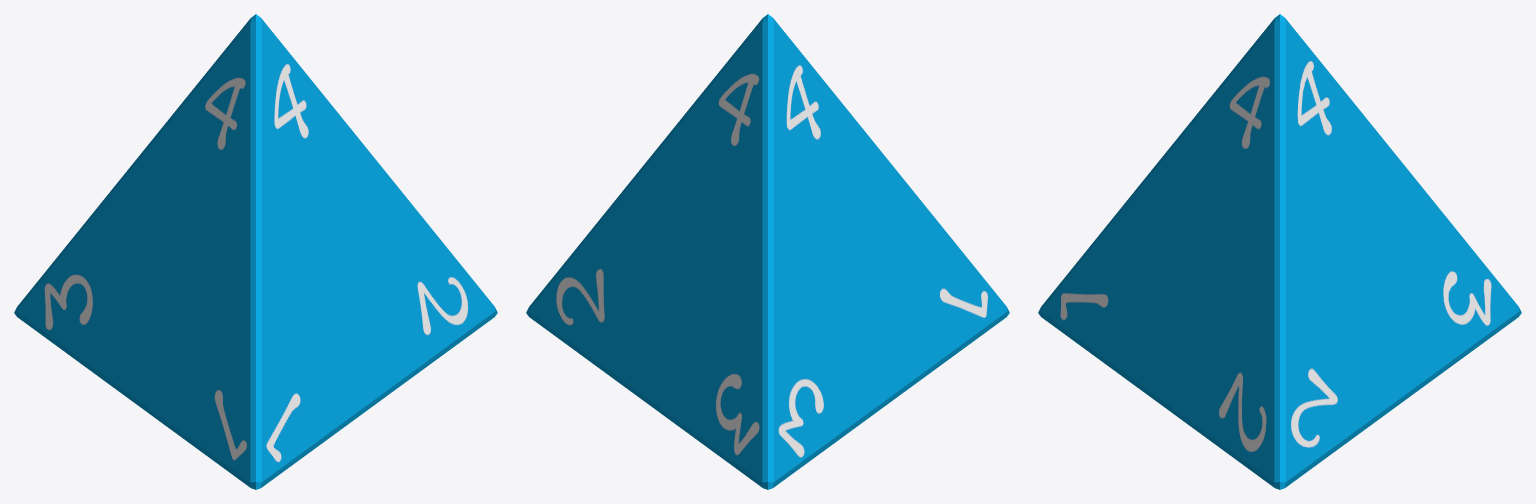
3 renders of one model, left to right at view 1: azimuth 30°, elevation 25°; view 2: azimuth 150°, elevation 25°; view 3: azimuth 270°, elevation 25°, orthographic.
Parts seen in each view (by area): view 1: Tetrahedron; view 2: Tetrahedron; view 3: Tetrahedron.
Part boxes in pixels (x1,y1,x2,y2): Tetrahedron: [14, 14, 497, 489]; Tetrahedron: [526, 14, 1009, 489]; Tetrahedron: [1038, 14, 1521, 489].
Size of the model in its own units: 1.37 by 1.3 by 1.58.
Materials: 1 (1 with a texture image).
